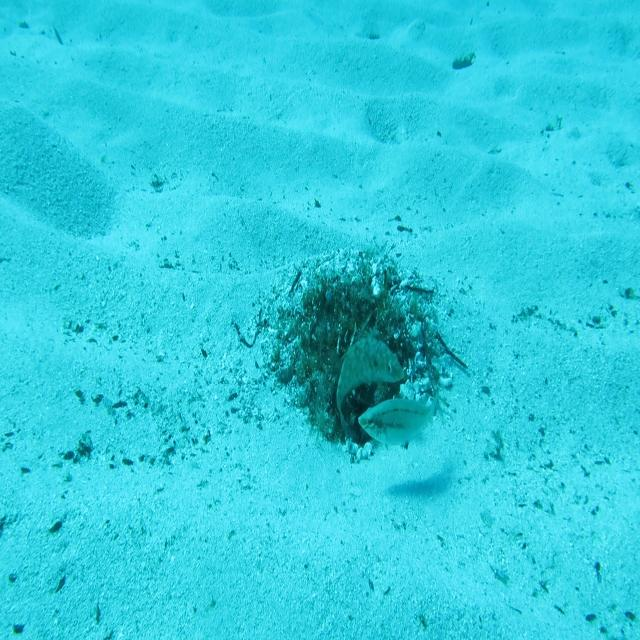DAN_CIRC: (333, 327, 406, 440)
core_nest: (328, 295, 367, 345)
female: (357, 389, 439, 453)
nest: (255, 232, 458, 477)
vegetation: (450, 50, 476, 71)
